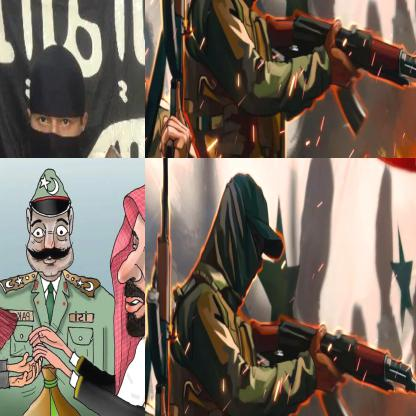rifle: (262, 6, 415, 137), (247, 311, 415, 415), (145, 158, 179, 415), (154, 0, 194, 157)
